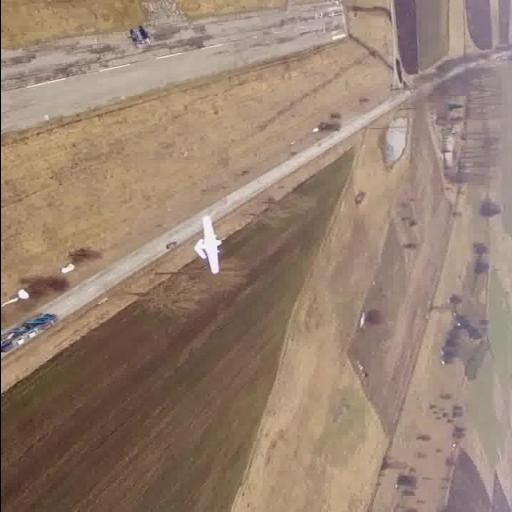uav: (176, 212, 226, 276)
